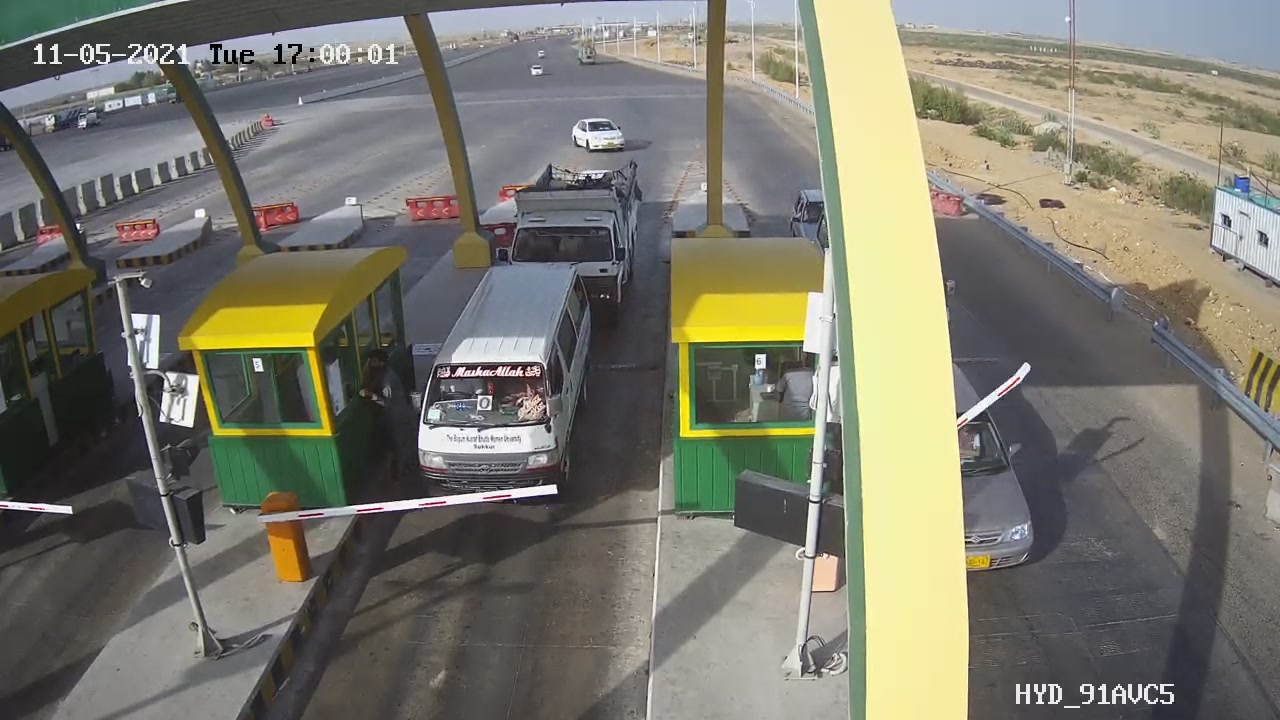F2: (398, 251, 612, 525)
